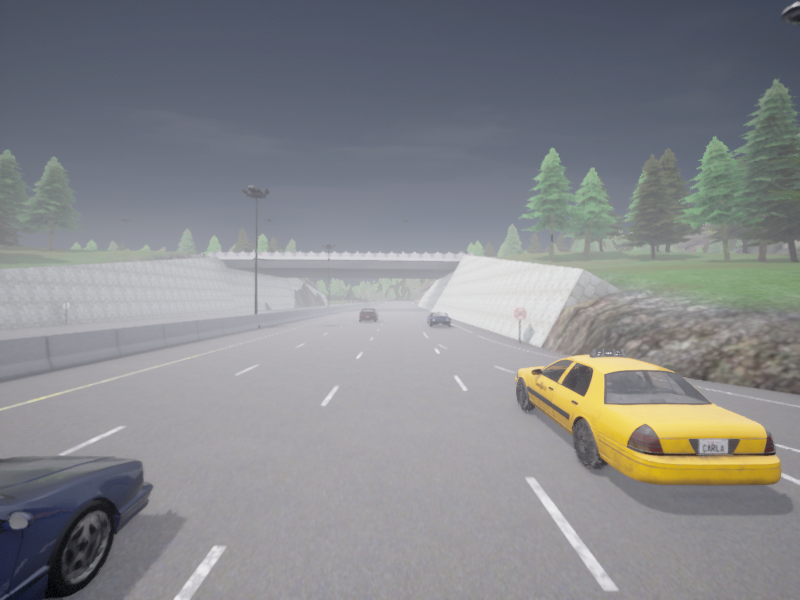vehicle: (515, 349, 780, 484), (0, 456, 152, 599), (427, 312, 450, 326), (359, 308, 378, 321)
